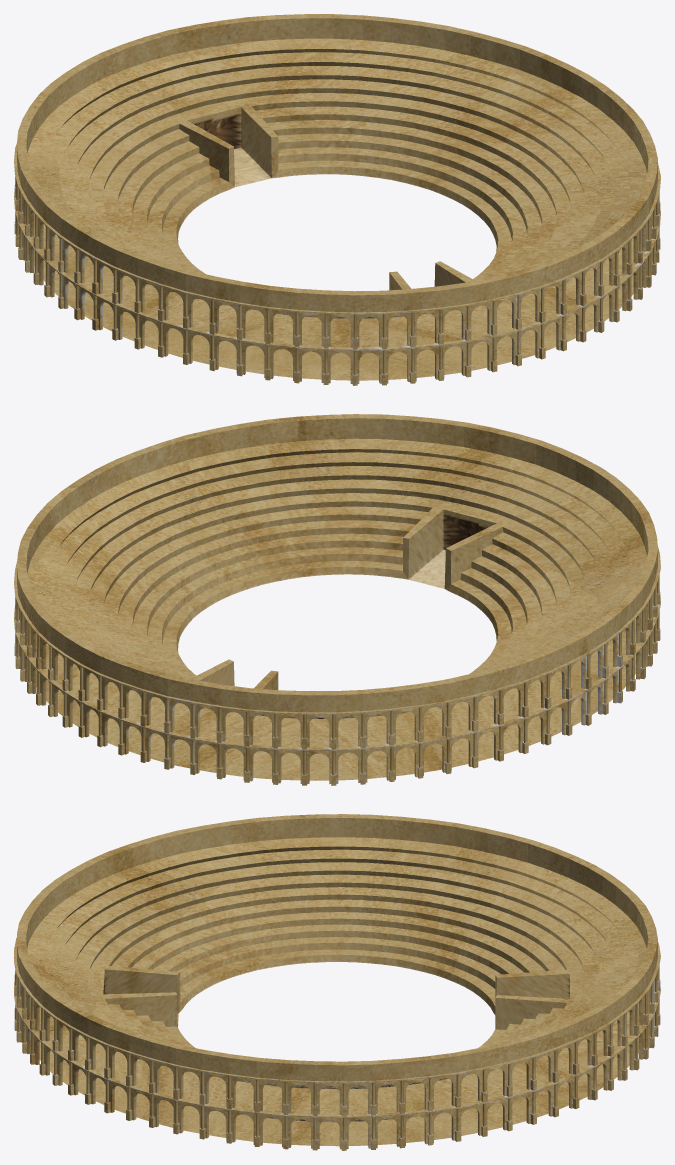
File: Coliseo romano.fbx
3 views of the same model, one above another, from view 1: azimuth 30°, elevation 25°; view 2: azimuth 150°, elevation 25°; view 3: azimuth 270°, elevation 25° (orthographic). The views are drawn at different scales.
Parts seen in each view (by area): view 1: Coliseo_romano; view 2: Coliseo_romano; view 3: Coliseo_romano.
Part boxes in pixels (box(x1,y1,x2,y2)): Coliseo_romano: box(14, 14, 660, 385); Coliseo_romano: box(14, 414, 660, 785); Coliseo_romano: box(14, 814, 660, 1150).
Size of the model in its own units: 7100 by 1106 by 7659.
1 material, 1 textured.
